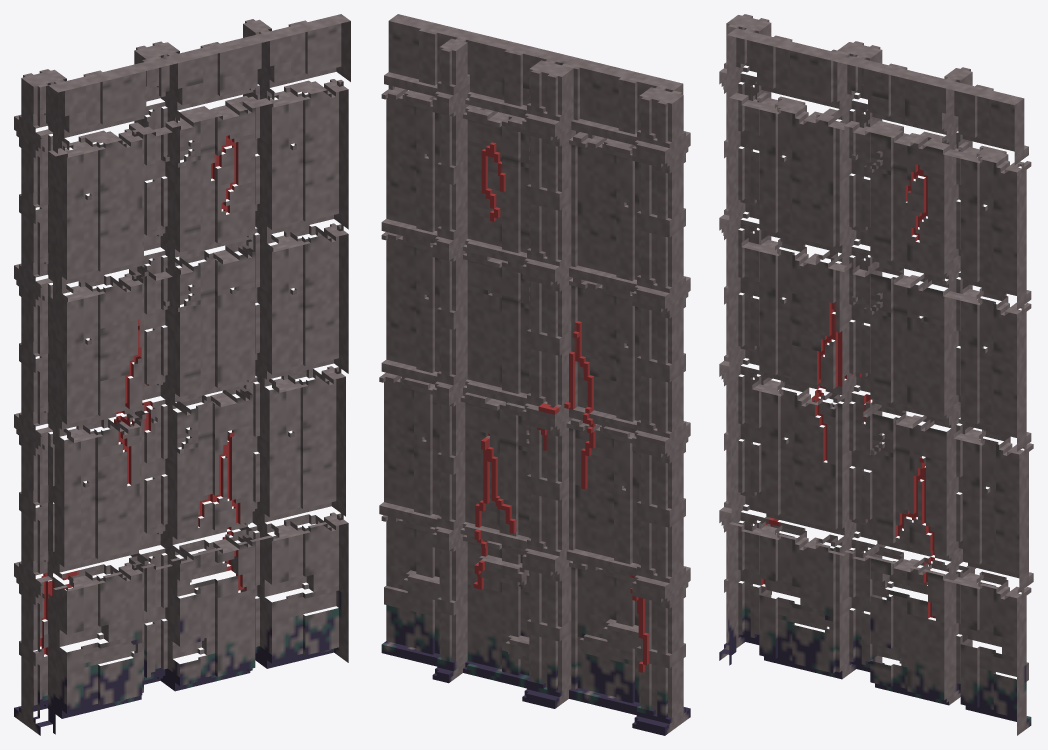
The model's file is deathGate_door_left_state_3.fbx.
The picture shows the model from 3 angles, left to right: view 1: azimuth 30°, elevation 25°; view 2: azimuth 150°, elevation 25°; view 3: azimuth 330°, elevation 25°; orthographic projection. The views are drawn at different scales.
Parts seen in each view (by area): view 1: deathGate_door_left_state_6; view 2: deathGate_door_left_state_6; view 3: deathGate_door_left_state_6.
Part boxes in pixels (x1,y1,x2,y2): deathGate_door_left_state_6: [14, 14, 350, 735]; deathGate_door_left_state_6: [379, 14, 690, 735]; deathGate_door_left_state_6: [719, 14, 1033, 735].
Size of the model in its own units: 73 by 147 by 13.
1 material, 1 textured.
